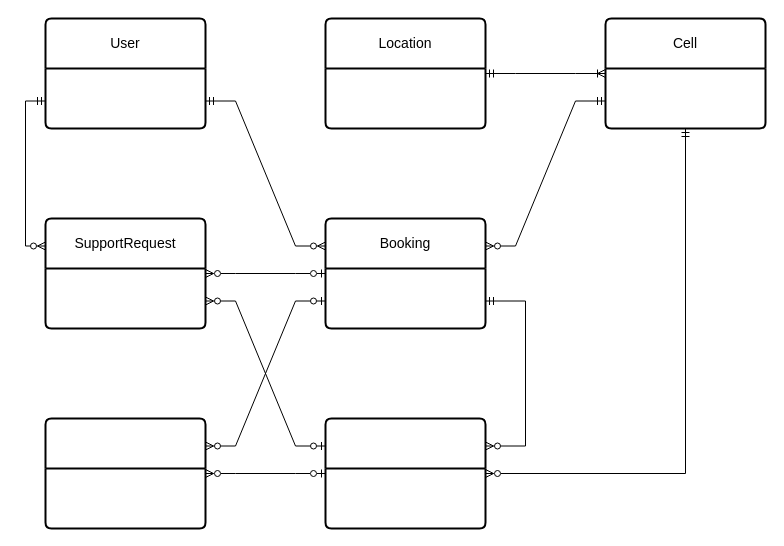
This 784x546 diagram has some shape labels left out. Each missing label, with the centre of its shape:
Payment: the point at 125,473
Transfer: the point at 405,473
